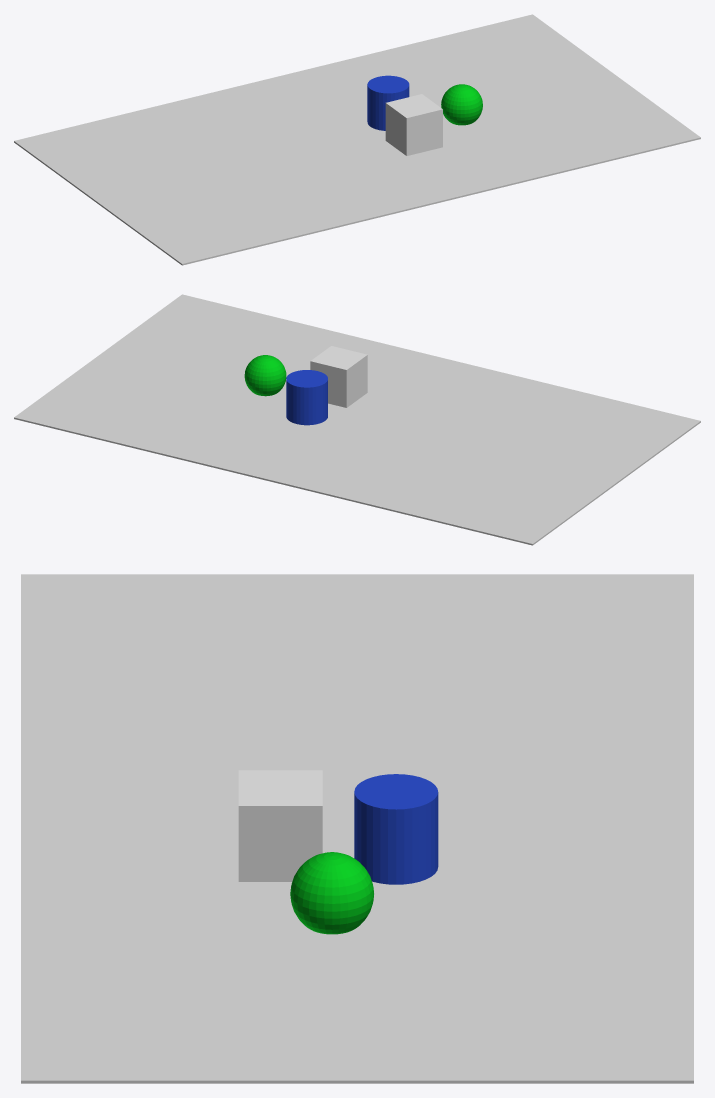
The model's file is hinh3.glb.
3 renders of one model, top to bottom at view 1: azimuth 30°, elevation 25°; view 2: azimuth 150°, elevation 25°; view 3: azimuth 270°, elevation 25°, orthographic. The views are drawn at different scales.
Parts seen in each view (by area): view 1: Khối Lập Phương, Cube, Hình Trụ, hinhcau; view 2: Khối Lập Phương, Cube, Hình Trụ, hinhcau; view 3: Khối Lập Phương, Cube, Hình Trụ, hinhcau.
Boxes of the visible parts, x1,y1,x2,y2 form: Khối Lập Phương: (14, 14, 700, 265); Cube: (385, 94, 442, 155); Hình Trụ: (367, 75, 409, 130); hinhcau: (441, 84, 482, 125); Khối Lập Phương: (14, 294, 700, 545); Cube: (310, 346, 367, 407); Hình Trụ: (286, 370, 327, 425); hinhcau: (244, 355, 286, 396); Khối Lập Phương: (21, 574, 693, 1083); Cube: (238, 770, 322, 881); Hình Trụ: (354, 774, 438, 884); hinhcau: (290, 852, 373, 934).
Size of the model in its own units: 28.55 by 3.38 by 16.04.
3 materials, 2 textured.
